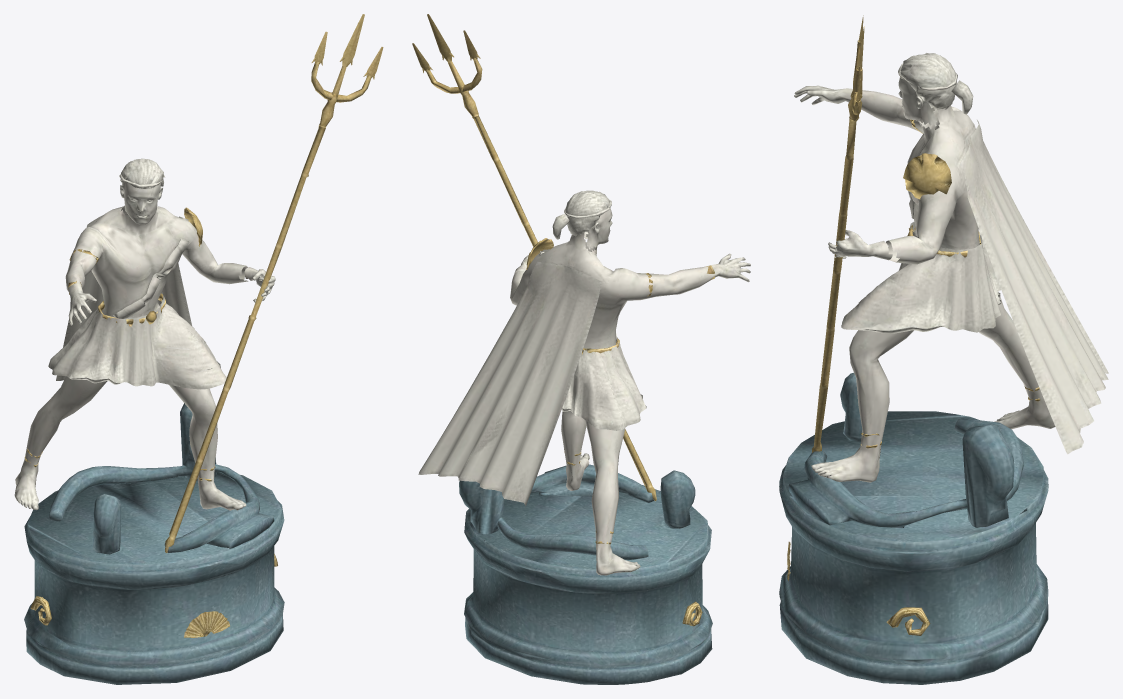
Rendered from guardian-depths-mobile-r2.glb.
The picture shows the model from 3 angles, left to right: view 1: azimuth 30°, elevation 25°; view 2: azimuth 150°, elevation 25°; view 3: azimuth 270°, elevation 25°; orthographic projection. The views are drawn at different scales.
Visible parts, largest first — view 1: DEPTHS__PEDESTAL, DEPTHS__BODY, DEPTHS__CLOTH, DEPTHS__WAVES, DEPTHS__TRIDENT, DEPTHS__DETAILS, DEPTHS__FACE, DEPTHS__HAIR; view 2: DEPTHS__PEDESTAL, DEPTHS__CLOTH, DEPTHS__BODY, DEPTHS__WAVES, DEPTHS__TRIDENT, DEPTHS__HAIR, DEPTHS__DETAILS, DEPTHS__FACE; view 3: DEPTHS__PEDESTAL, DEPTHS__CLOTH, DEPTHS__BODY, DEPTHS__WAVES, DEPTHS__TRIDENT, DEPTHS__DETAILS, DEPTHS__HAIR, DEPTHS__HAND_GRIP, DEPTHS__FACE.
Part boxes in pixels (x1,y1,x2,y2): DEPTHS__PEDESTAL: [24, 472, 284, 684]; DEPTHS__BODY: [14, 206, 248, 510]; DEPTHS__CLOTH: [48, 215, 226, 389]; DEPTHS__WAVES: [49, 403, 274, 554]; DEPTHS__TRIDENT: [165, 14, 383, 552]; DEPTHS__DETAILS: [24, 207, 277, 637]; DEPTHS__FACE: [120, 182, 162, 224]; DEPTHS__HAIR: [119, 158, 164, 188]; DEPTHS__PEDESTAL: [464, 485, 712, 684]; DEPTHS__CLOTH: [418, 251, 646, 506]; DEPTHS__BODY: [510, 231, 750, 575]; DEPTHS__WAVES: [459, 464, 695, 559]; DEPTHS__TRIDENT: [412, 14, 656, 501]; DEPTHS__HAIR: [552, 190, 611, 239]; DEPTHS__DETAILS: [526, 238, 714, 626]; DEPTHS__FACE: [584, 208, 612, 249]; DEPTHS__PEDESTAL: [779, 411, 1048, 684]; DEPTHS__CLOTH: [841, 120, 1108, 454]; DEPTHS__BODY: [794, 85, 1055, 482]; DEPTHS__WAVES: [788, 372, 1027, 527]; DEPTHS__TRIDENT: [812, 15, 864, 452]; DEPTHS__DETAILS: [787, 119, 1040, 635]; DEPTHS__HAIR: [898, 53, 973, 114]; DEPTHS__HAND_GRIP: [828, 230, 892, 260]; DEPTHS__FACE: [898, 77, 936, 126].
Bounding box in the file's own units: 5.29 × 8.97 × 3.83.
3 materials, 3 textured.
